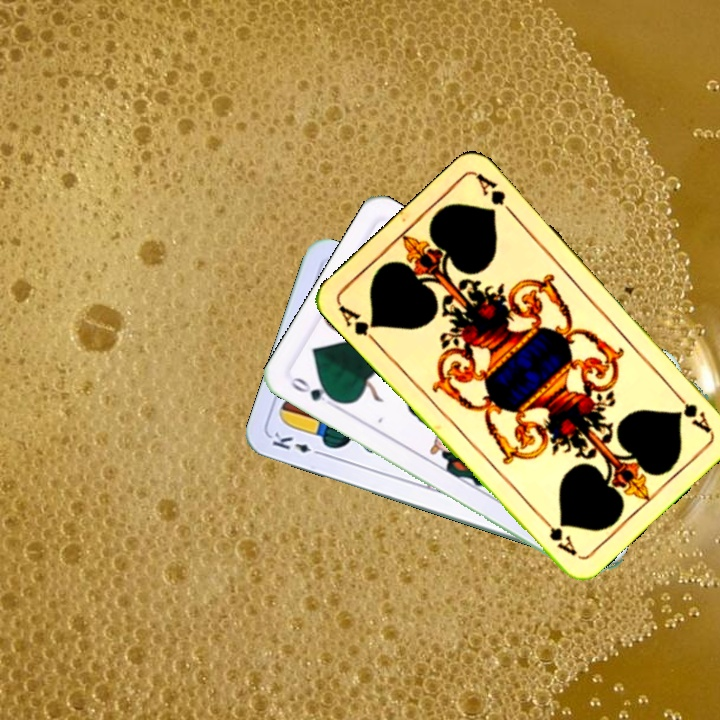EK: (268, 428, 326, 458)
GA: (334, 300, 381, 348), (669, 387, 714, 435)
GO: (286, 373, 342, 411)
